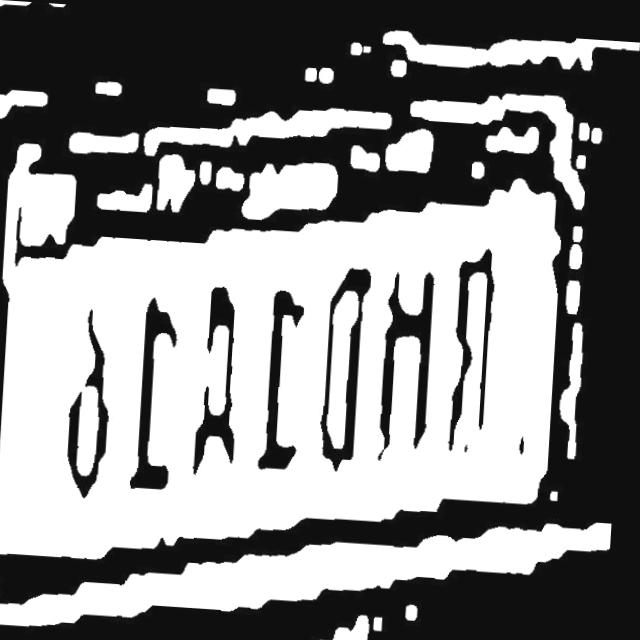1: (134, 293, 189, 497), (262, 282, 315, 473)
6: (65, 299, 123, 497)
a: (195, 281, 249, 478)
d: (318, 257, 375, 468)
h: (377, 256, 443, 457)
r: (445, 240, 503, 449)
